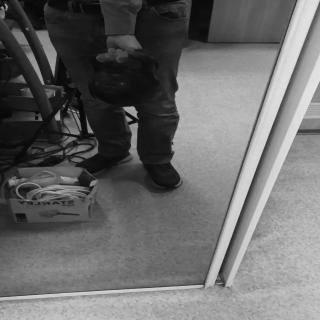kettlebell: (85, 51, 165, 109)
